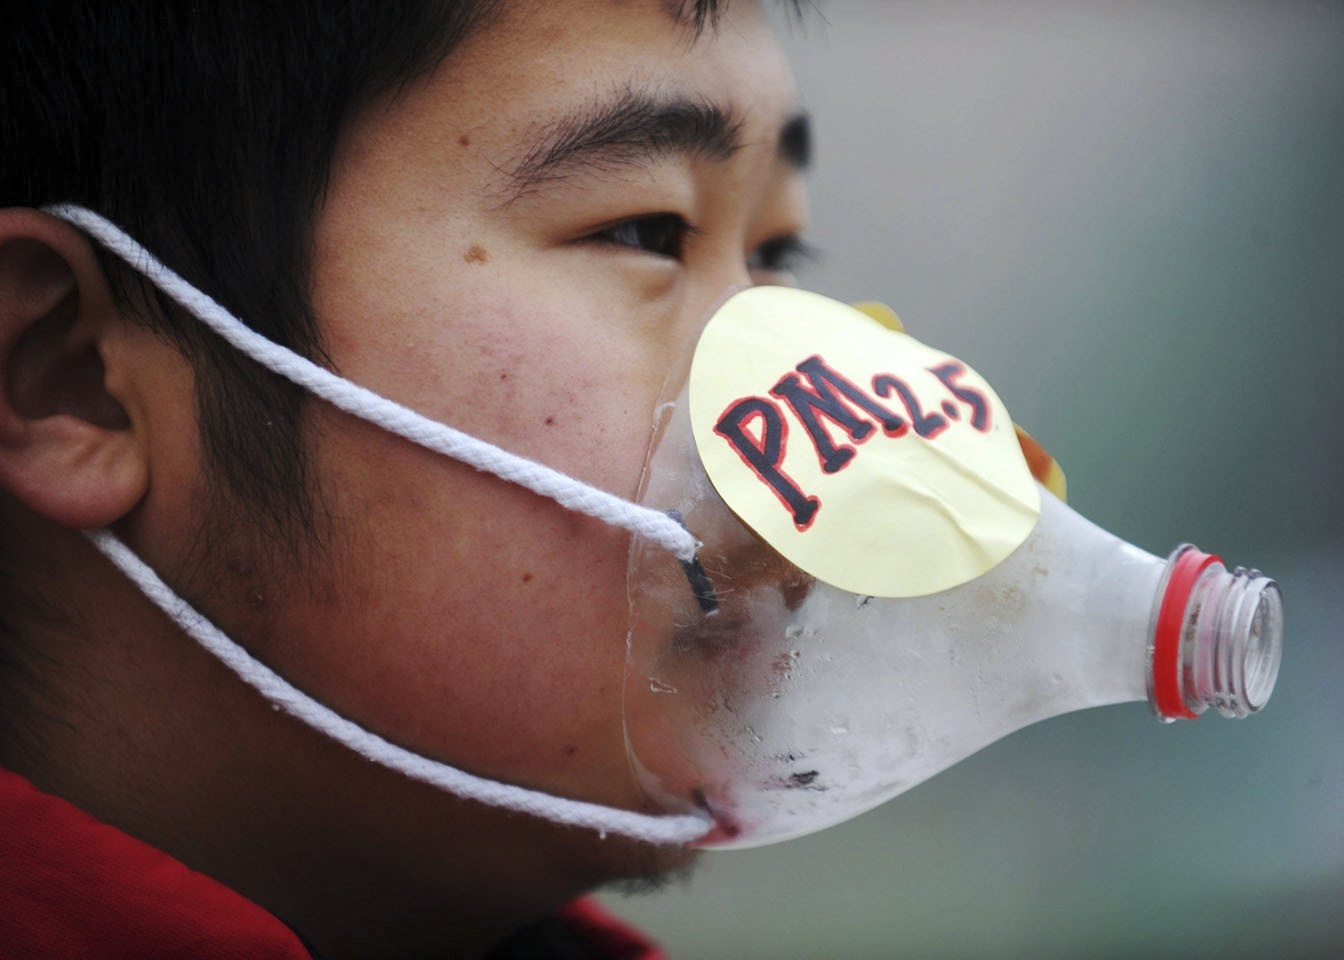face: (305, 1, 823, 853)
